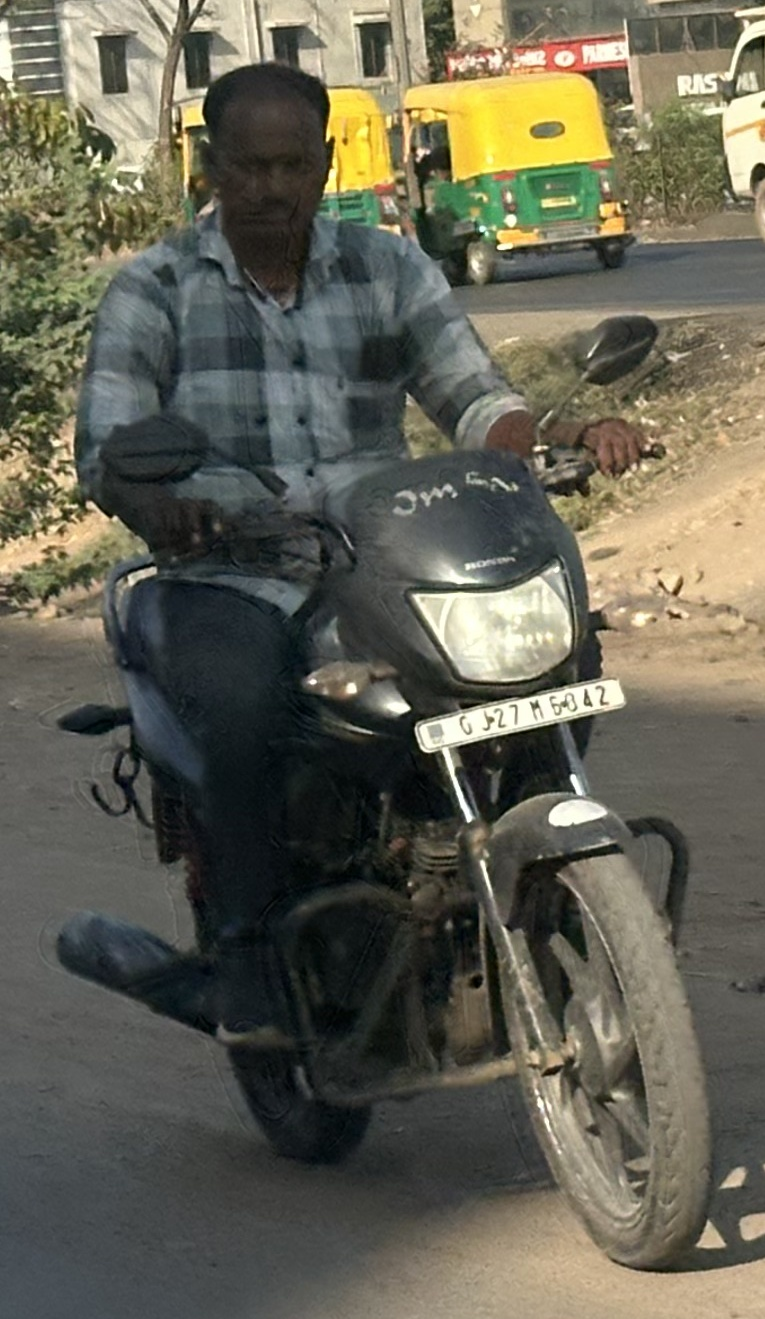BikeWithRider: (35, 55, 735, 1280)
NoHelmet: (178, 54, 358, 258)
